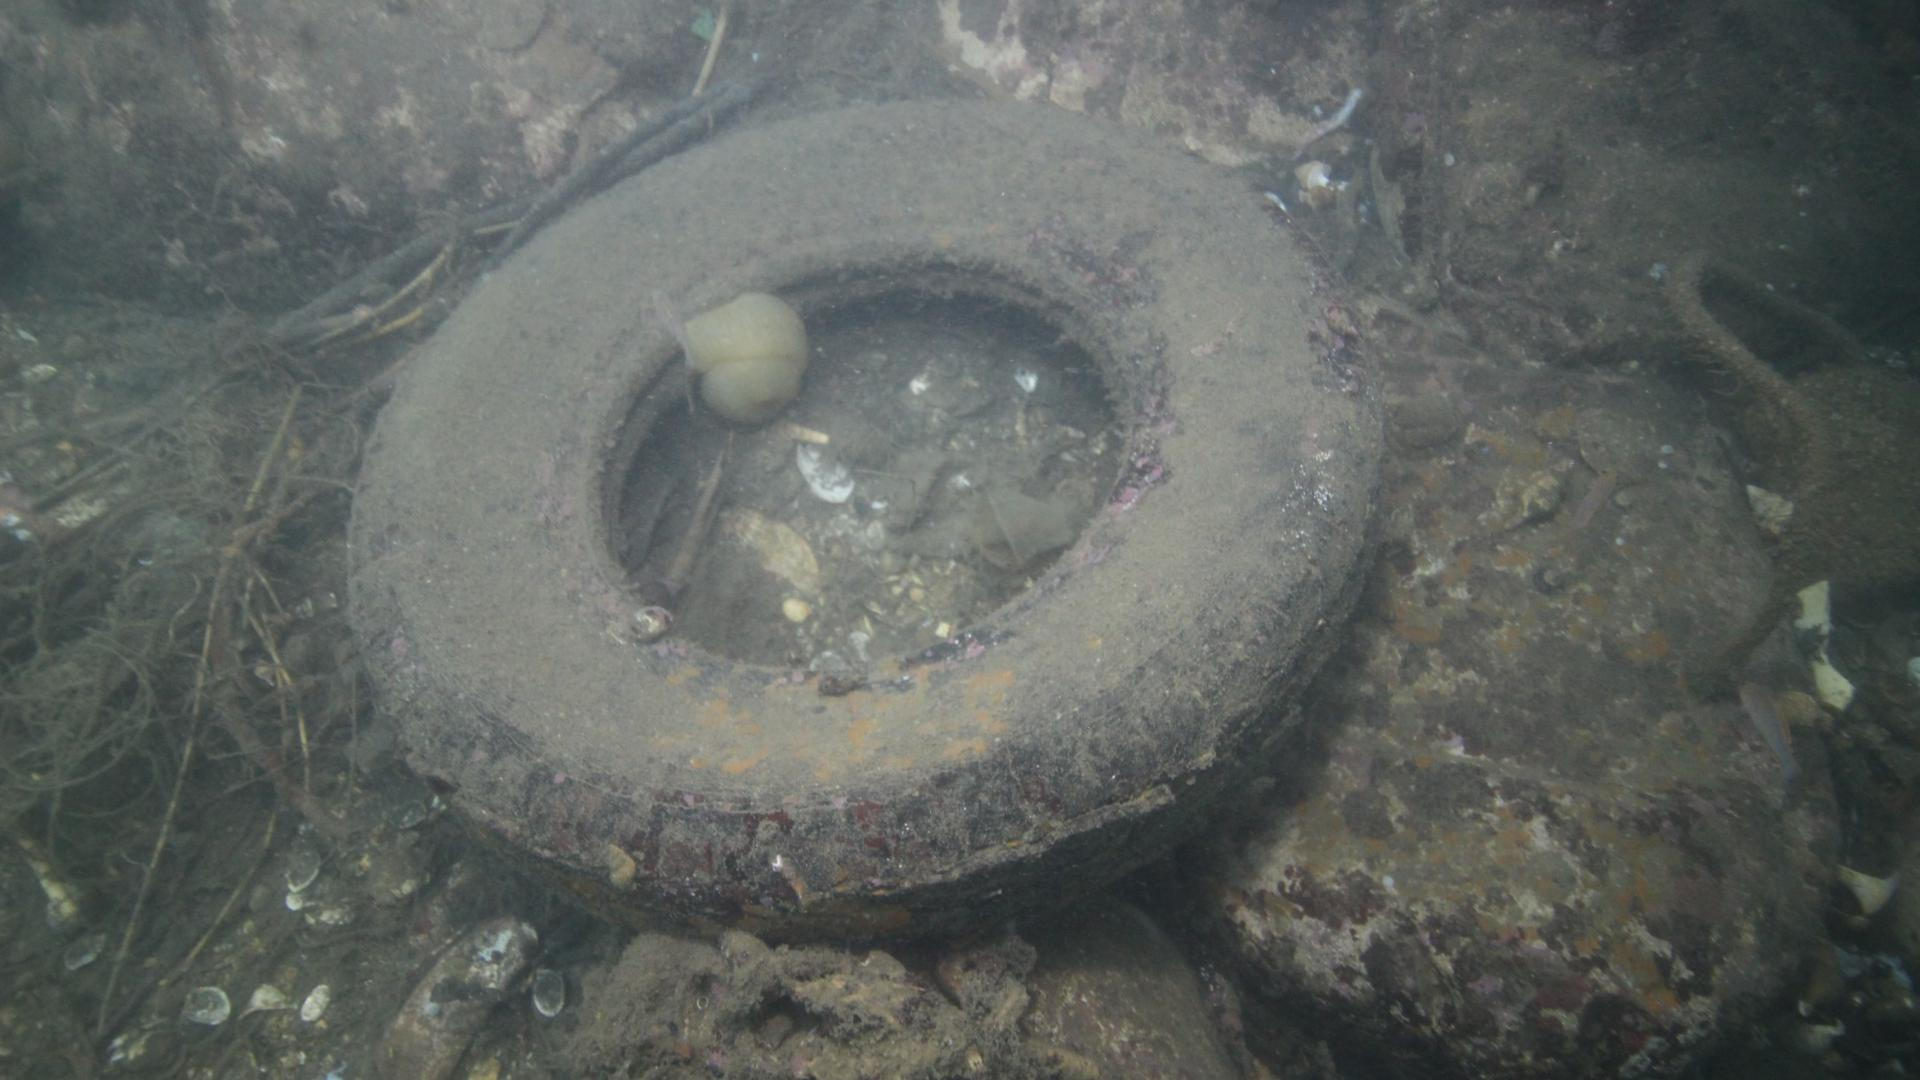rope: (1644, 229, 1873, 661)
tire: (342, 94, 1385, 952)
